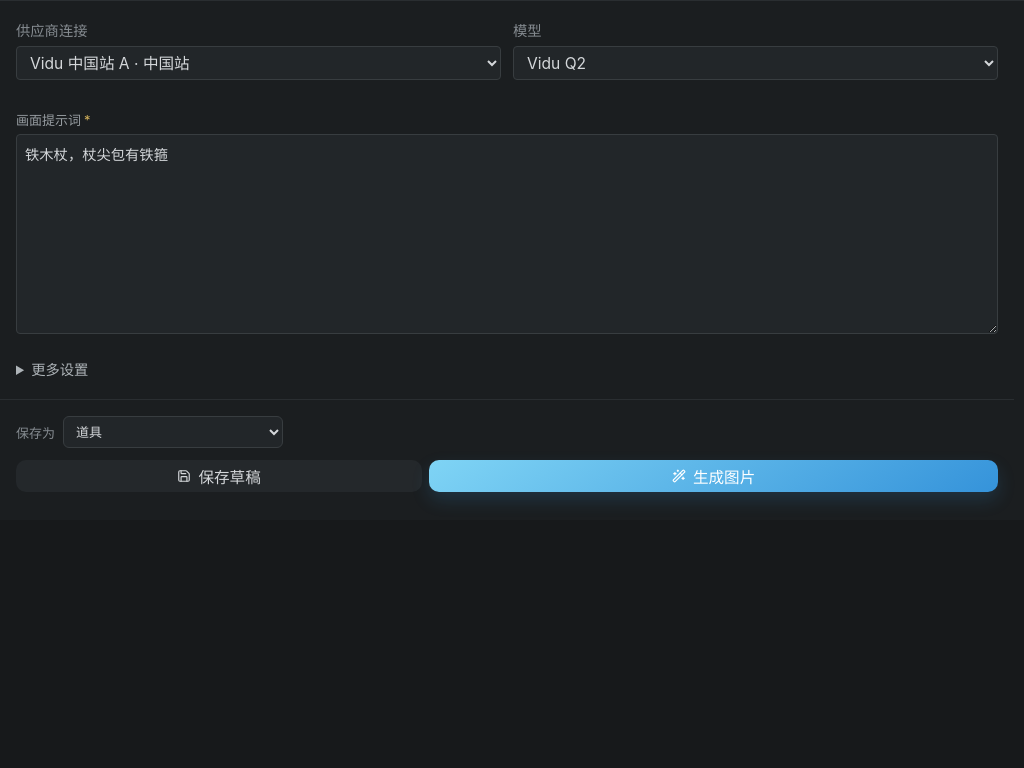
Test: ProductionPanel › prepares prop images with their source document and refreshes the owning gallery
This screenshot has width=1024, height=768.
Expected: the dropdown labelled "保存为" shows "道具", [63, 416, 283, 448]
Replace the text in the text box labelled "画面提示词 *" with "铁木杖，白底完整展示，保留铁箍" at (507, 234), box [16, 134, 998, 334]
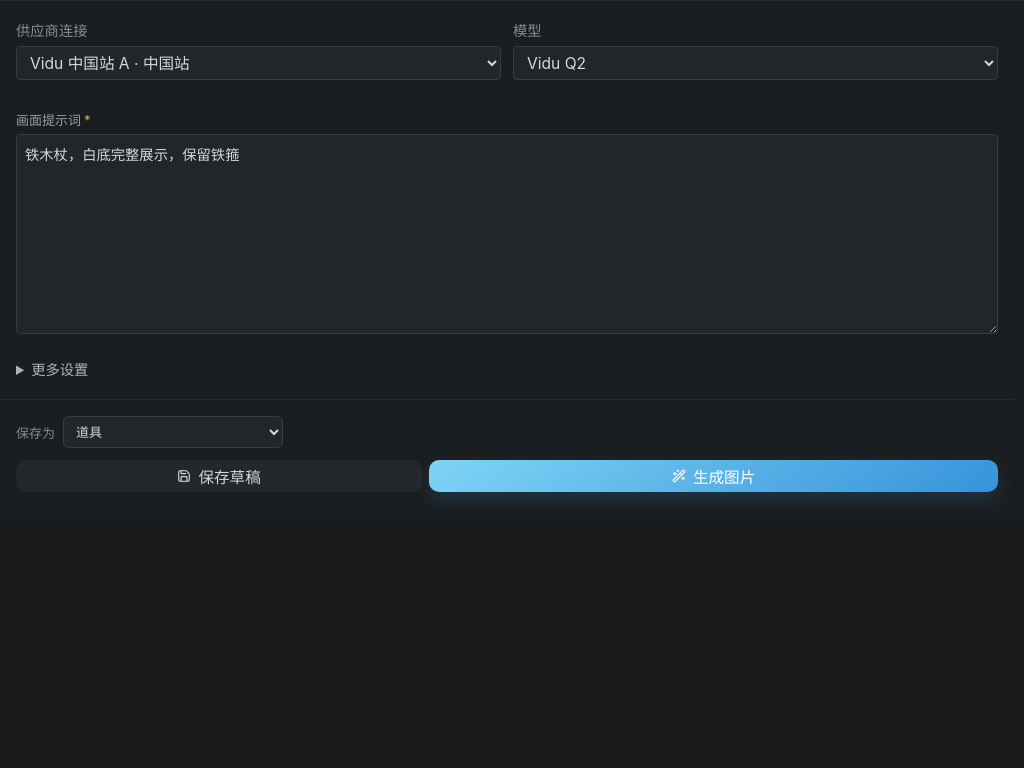
Click the button "生成图片".
click(714, 476)  # box [429, 460, 998, 492]
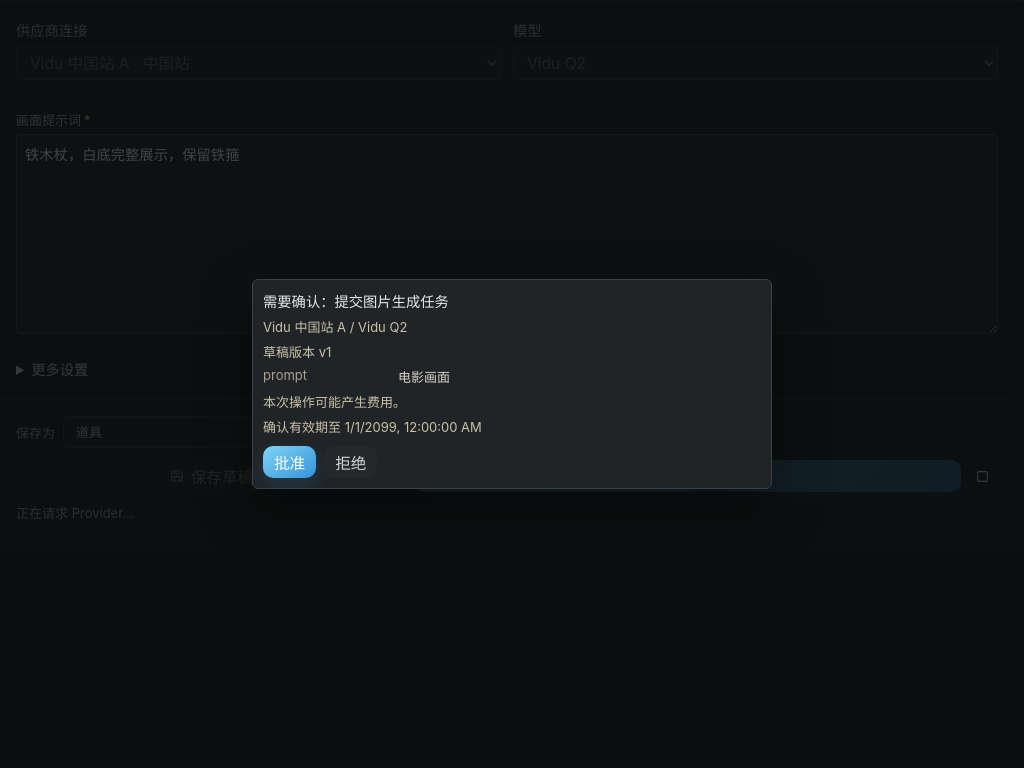
Click the button "批准".
click(290, 462)  # box [263, 446, 316, 478]
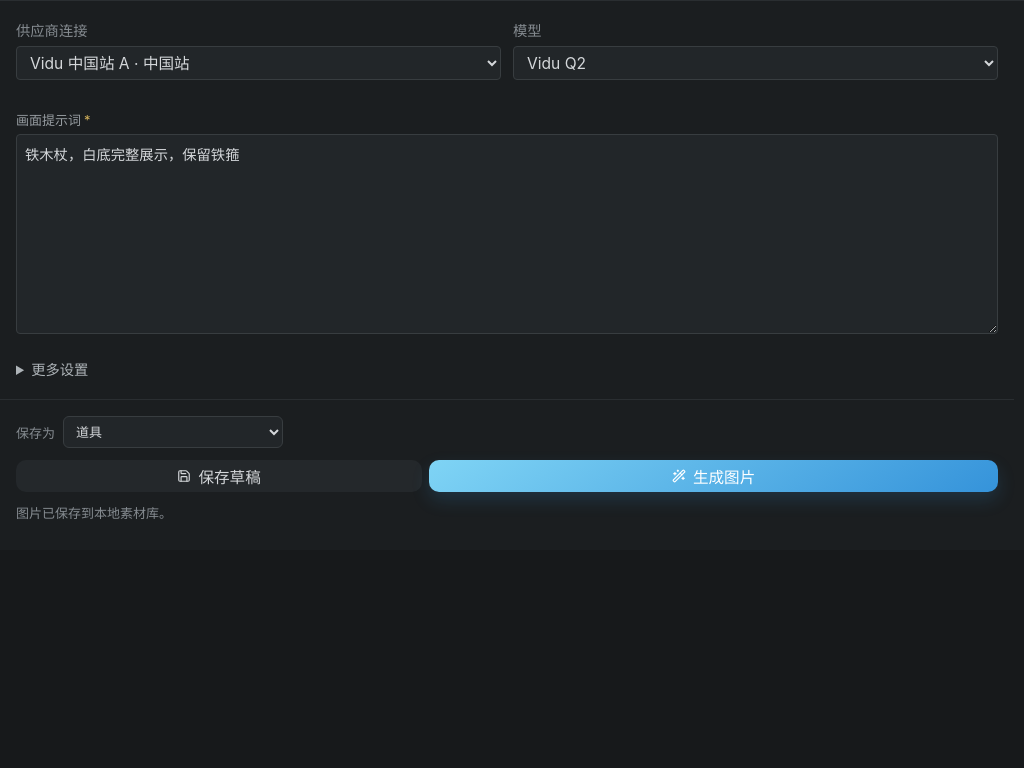
Result: the text "图片已保存到本地素材库。" is shown at [16, 505, 172, 521]
